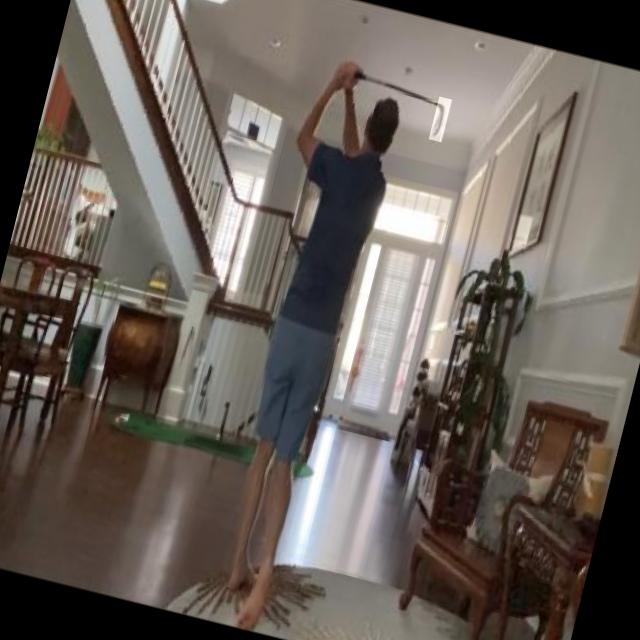club head: (428, 96, 452, 142)
